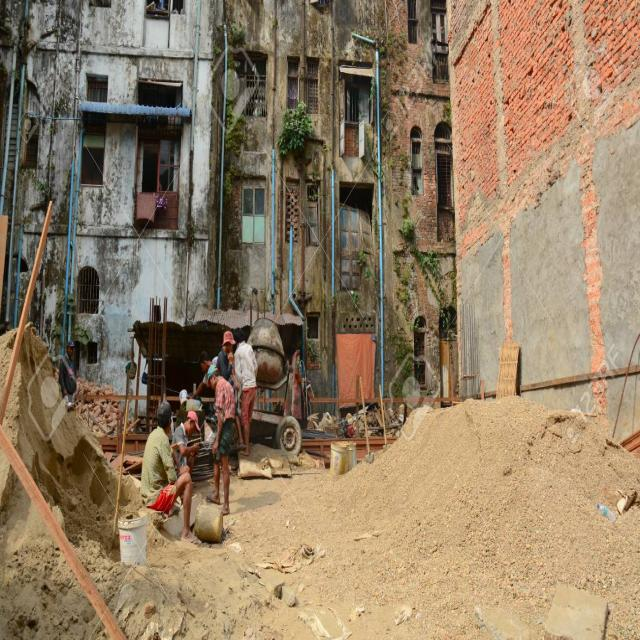no_boots: (183, 531, 206, 550), (222, 504, 232, 520), (210, 491, 220, 507)
no_gloves: (208, 444, 222, 458)
no_hardhat: (207, 365, 219, 394), (156, 403, 166, 426)
no_vest: (143, 431, 176, 496), (232, 342, 261, 388), (216, 374, 230, 414)
person: (140, 398, 195, 542), (205, 362, 238, 510), (225, 332, 260, 457)
